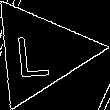L_N: (21, 26, 60, 78)
